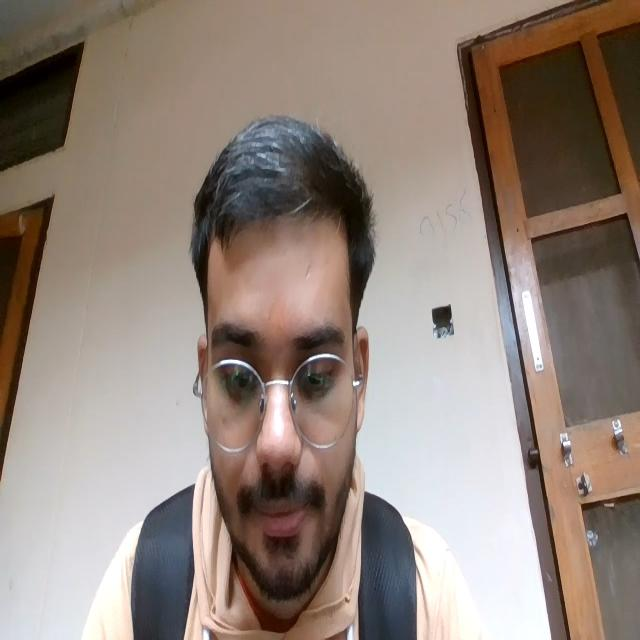drowsy: (202, 302, 353, 564)
